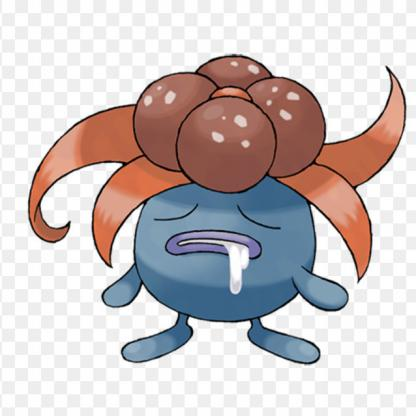Gloom: (15, 50, 408, 372)
